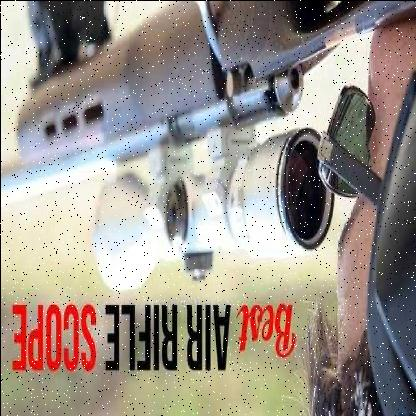rifle: (7, 1, 416, 299)
